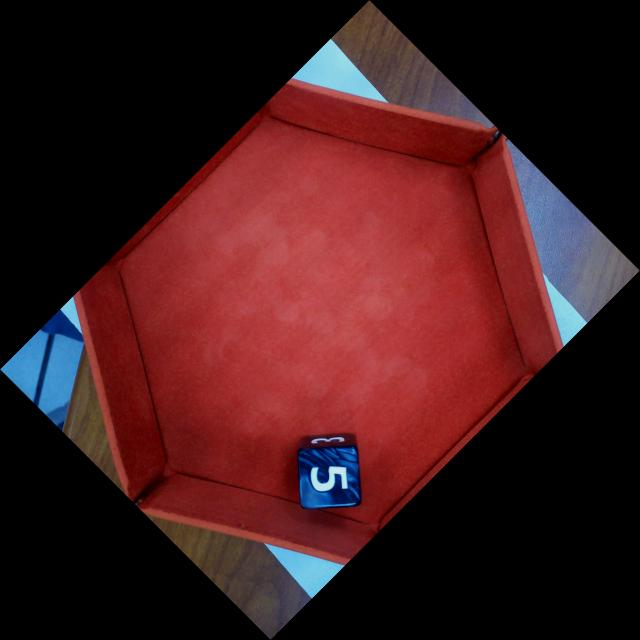dice: (300, 447, 358, 506)
